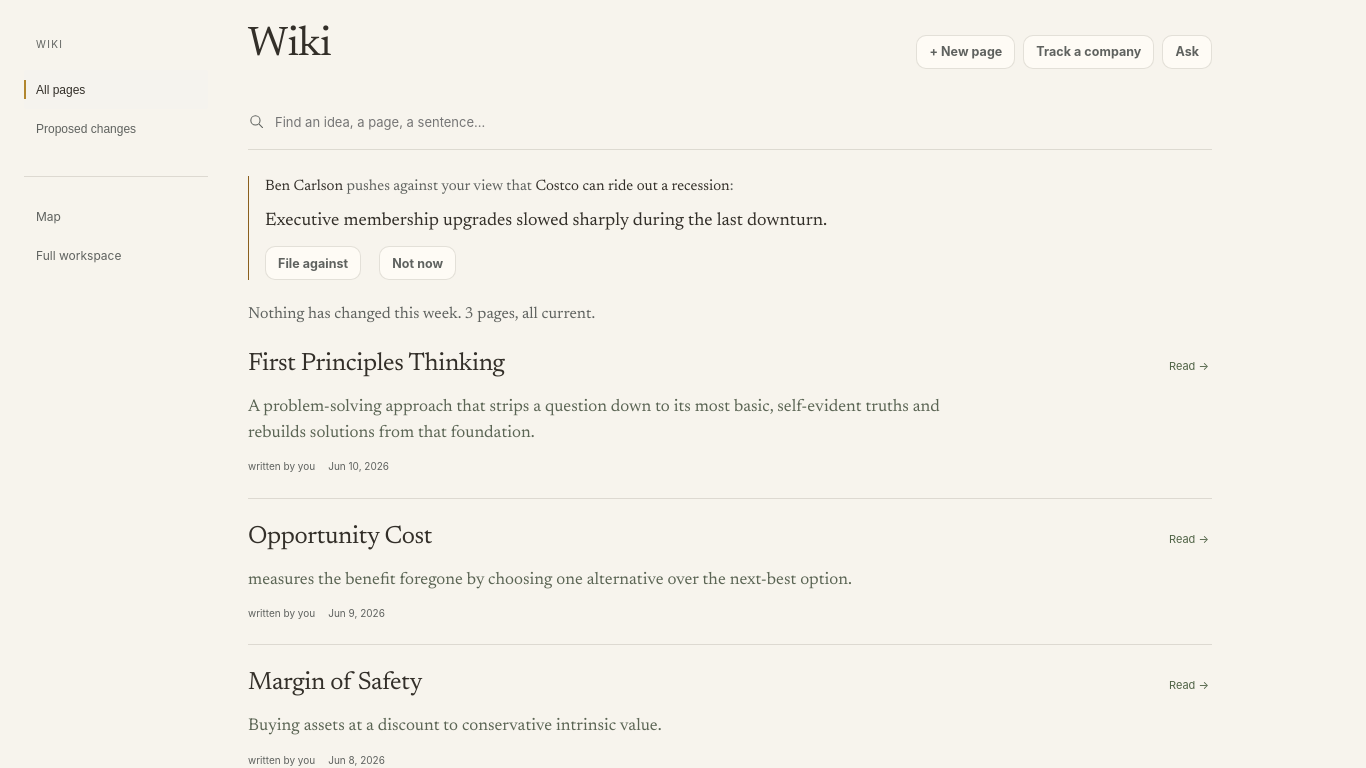
Scenario: WikiFrontPage collection › opens on a piece you saved that pushes against a view you hold, and files it there
Expected: the text "Executive membership upgrades slowed sharply during the last downturn." is shown, [265,212,827,230]
Step 1. Click the button "File against" → [313, 263], box [265,246,361,280]
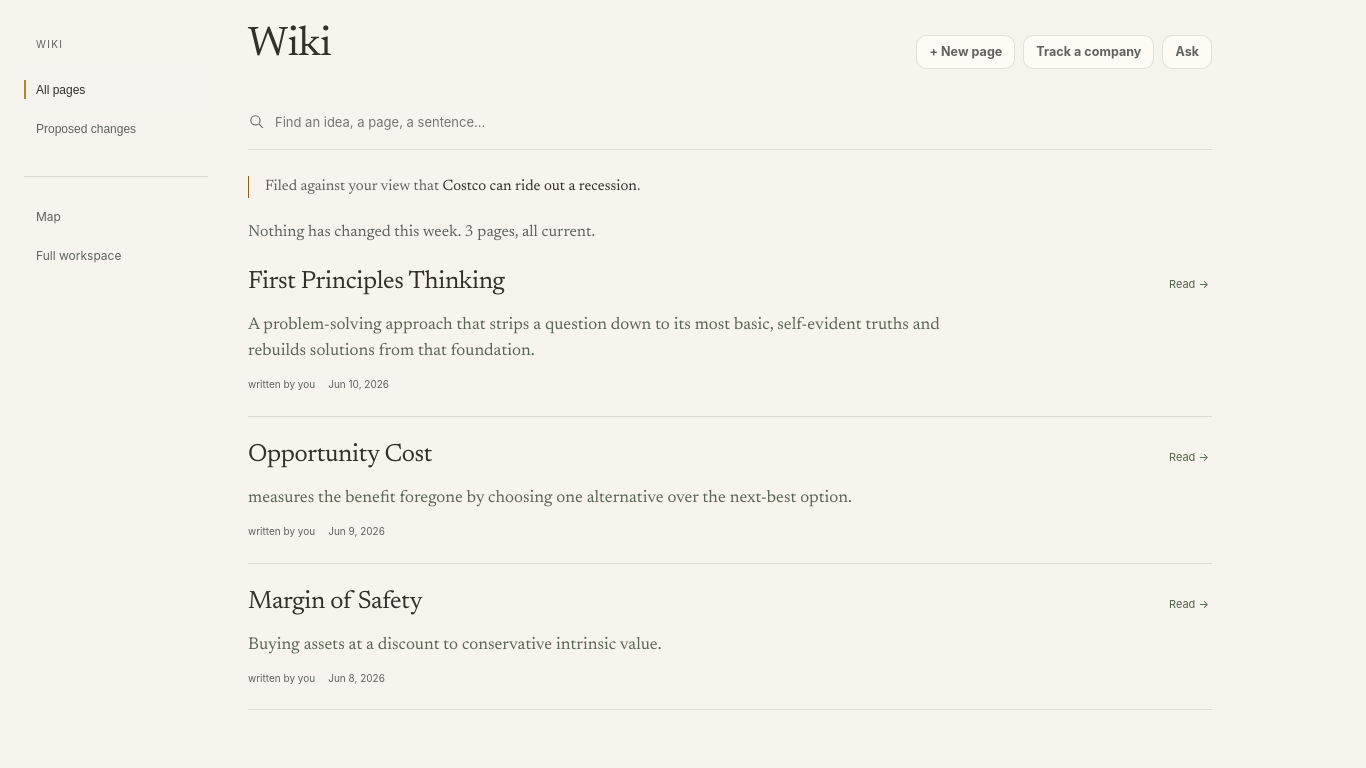
Expected: the message "Filed against your view that Costco can ride out a recession ." is shown, [265,179,640,194]
